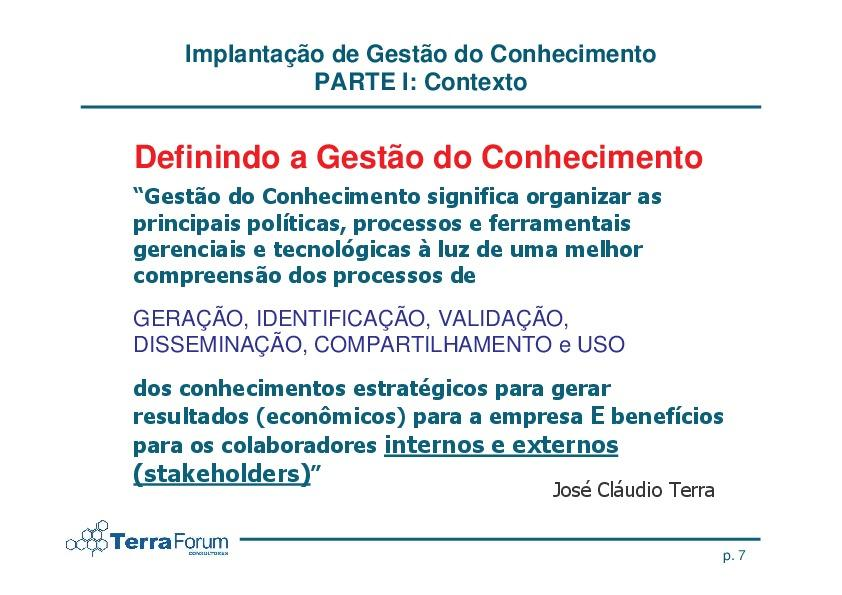paragraph: (118, 176, 751, 519)
subtitle: (128, 134, 712, 177)
title: (184, 29, 686, 100)
